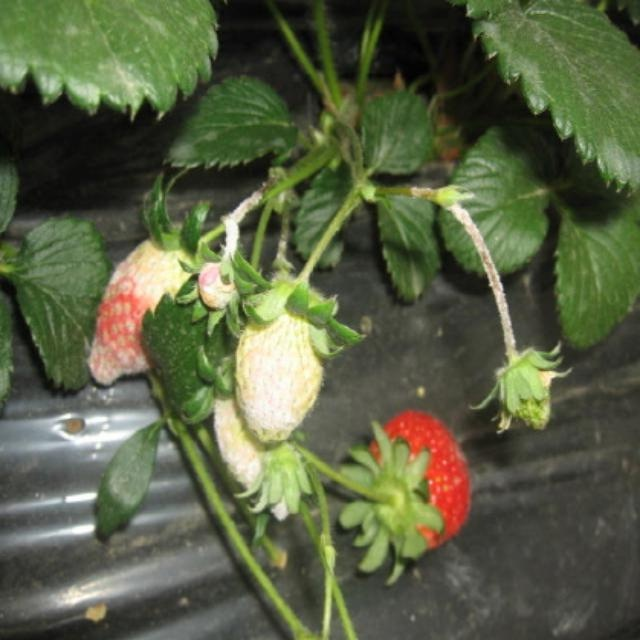Powdery Mildew Fruit: (86, 228, 238, 388), (234, 277, 336, 446), (212, 339, 300, 521)
